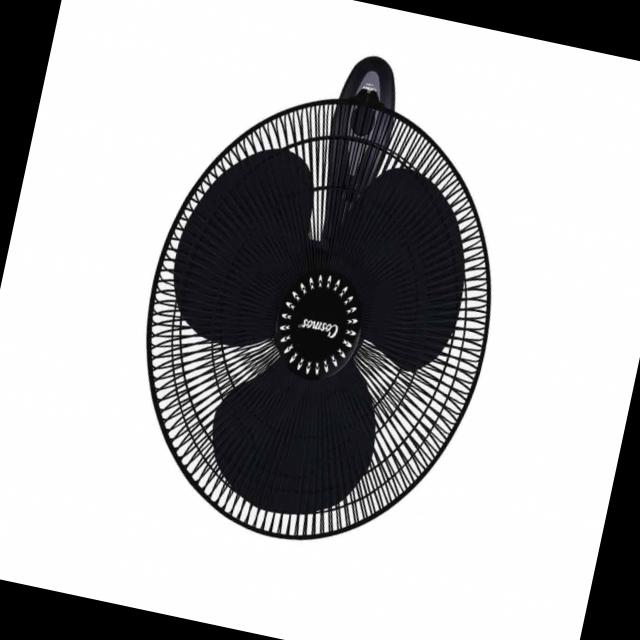fan: (100, 14, 544, 584)
